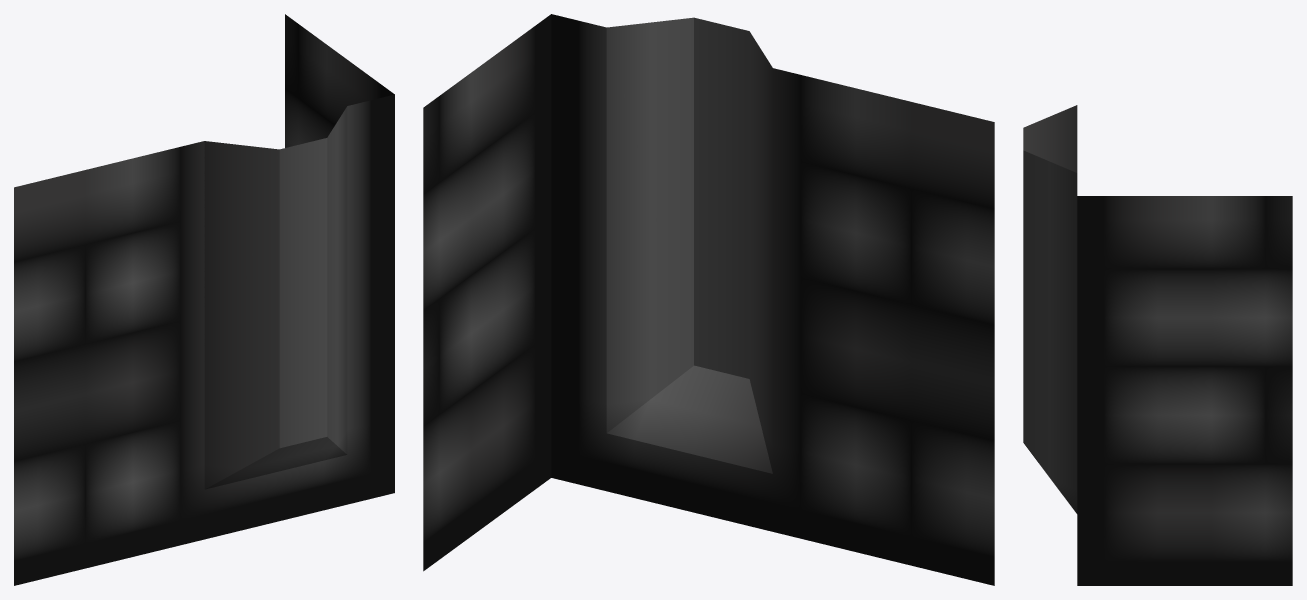
The model's file is door_frame_left.obj.
3 renders of one model, left to right at view 1: azimuth 30°, elevation 25°; view 2: azimuth 150°, elevation 25°; view 3: azimuth 270°, elevation 25°, orthographic. The views are drawn at different scales.
Visible parts, largest first — view 1: Default; view 2: Default; view 3: Default.
Boxes of the visible parts, x1,y1,x2,y2 form: Default: [14, 14, 394, 585]; Default: [423, 14, 994, 585]; Default: [1023, 105, 1292, 585].
Bounding box in the file's own units: 1 × 1 × 0.625.
